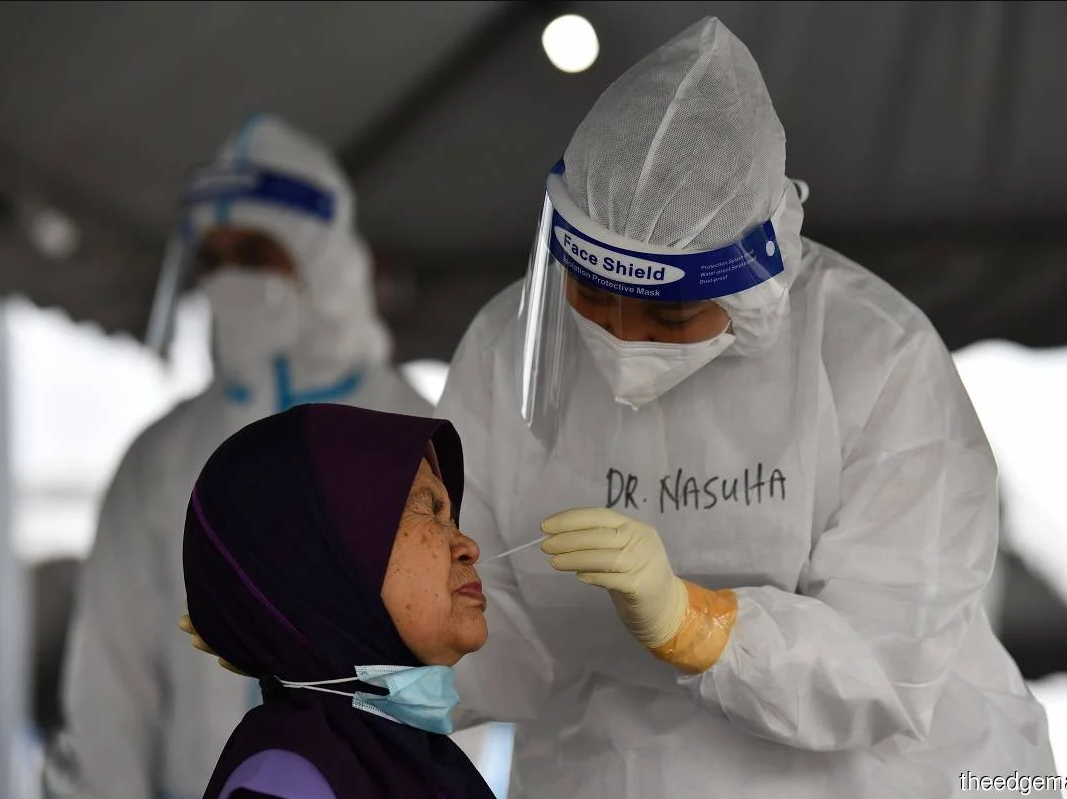Coverall: (439, 14, 1055, 799)
Gloves: (536, 503, 724, 673)
with_mask: (554, 253, 736, 415)
without_mask: (379, 460, 499, 675)
